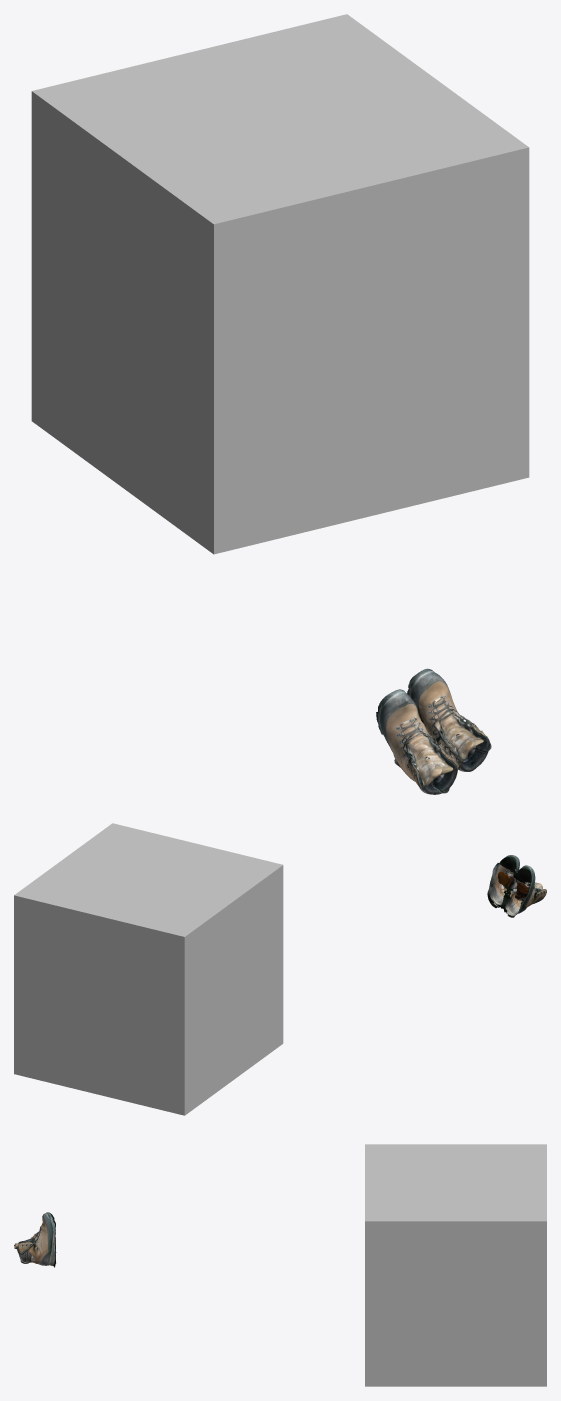
Rendered from boot2.obj.
3 renders of one model, top to bottom at view 1: azimuth 30°, elevation 25°; view 2: azimuth 150°, elevation 25°; view 3: azimuth 270°, elevation 25°, orthographic. The views are drawn at different scales.
Parts seen in each view (by area): view 1: Cube, boots; view 2: Cube, boots; view 3: Cube, boots.
Part boxes in pixels (x1=…): Cube: x1=31, y1=14, x2=529, y2=554; boots: x1=376, y1=668, x2=491, y2=794; Cube: x1=14, y1=823, x2=283, y2=1115; boots: x1=487, y1=855, x2=546, y2=917; Cube: x1=365, y1=1144, x2=546, y2=1386; boots: x1=14, y1=1212, x2=56, y2=1267.
Bounding box in the file's own units: 2.94 × 2 × 5.85.
2 materials, 1 textured.
